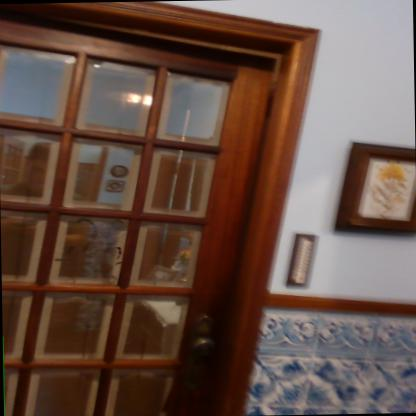closed: (0, 16, 360, 415)
